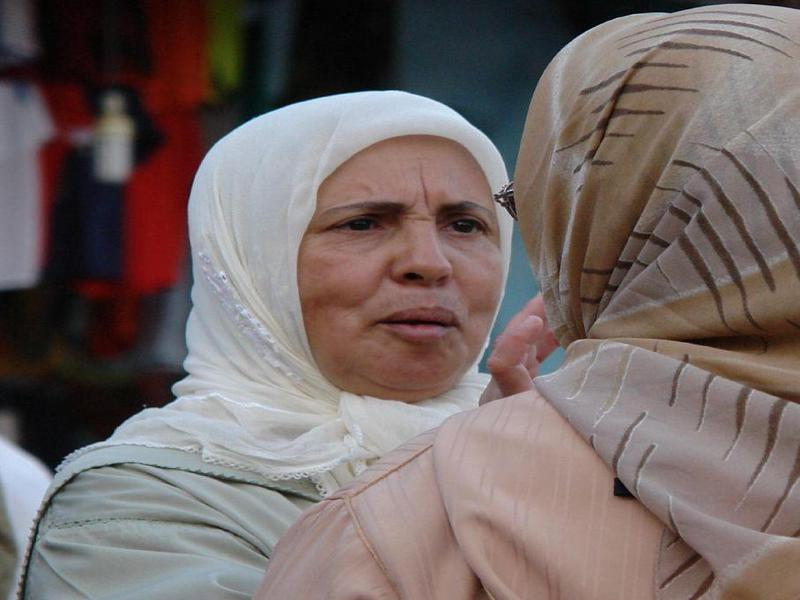person: (259, 3, 800, 600), (30, 85, 516, 598)
